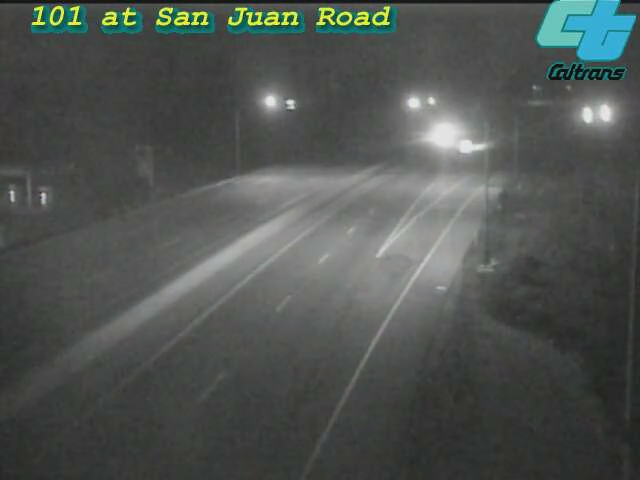vehicle: (412, 109, 462, 159), (440, 120, 490, 170), (561, 89, 611, 139), (581, 89, 631, 139)
